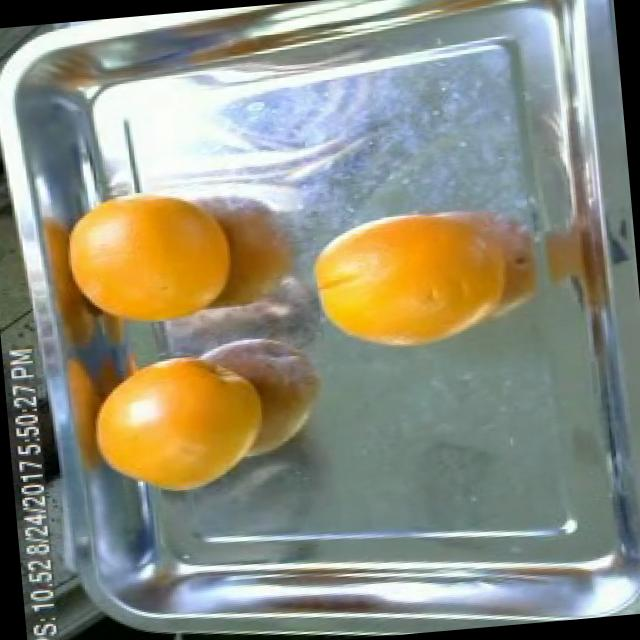Fruit: (70, 342, 298, 520), (290, 186, 510, 370)
